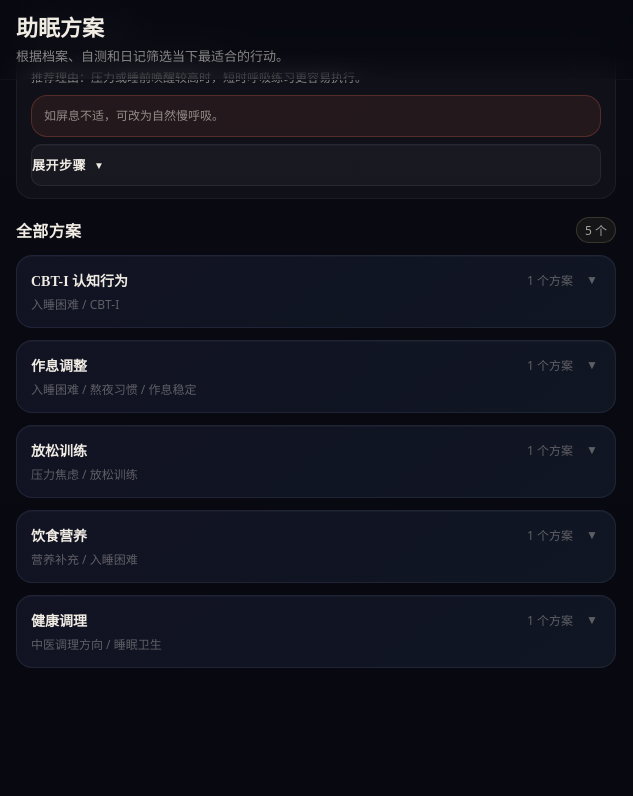
Test: PlansPage › keeps plan library categories collapsed until opened
The image size is (633, 796).
(page scrolled)
Expected: the heading "全部方案" is shown, [16, 220, 81, 243]
Expected: the heading "咖啡因边界" is not shown
Click the button "饮食营养 1 个方案 营养补充 / 入睡困难 ▼".
click(59, 536)  # box [17, 511, 615, 582]
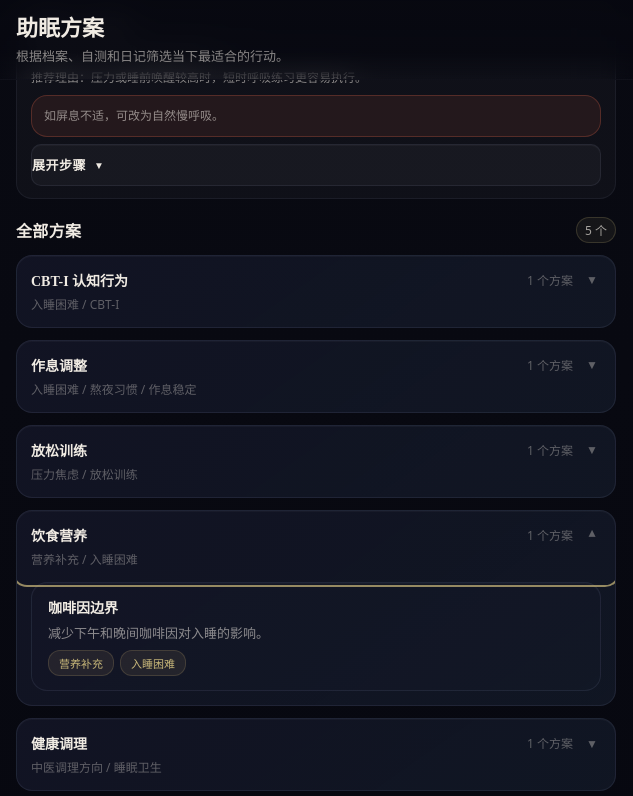
Expected: the heading "咖啡因边界" is shown, [48, 598, 118, 617]
